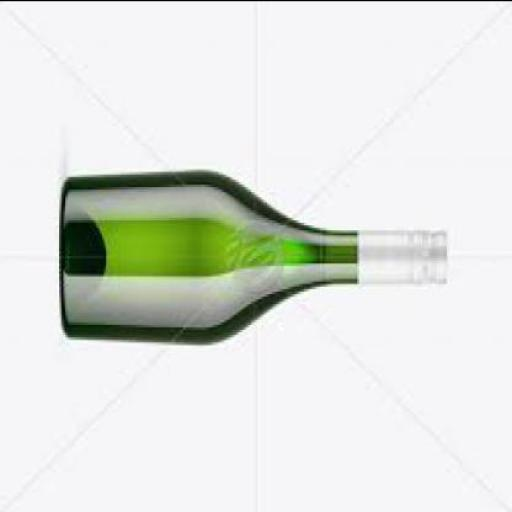glass: (64, 170, 448, 346)
